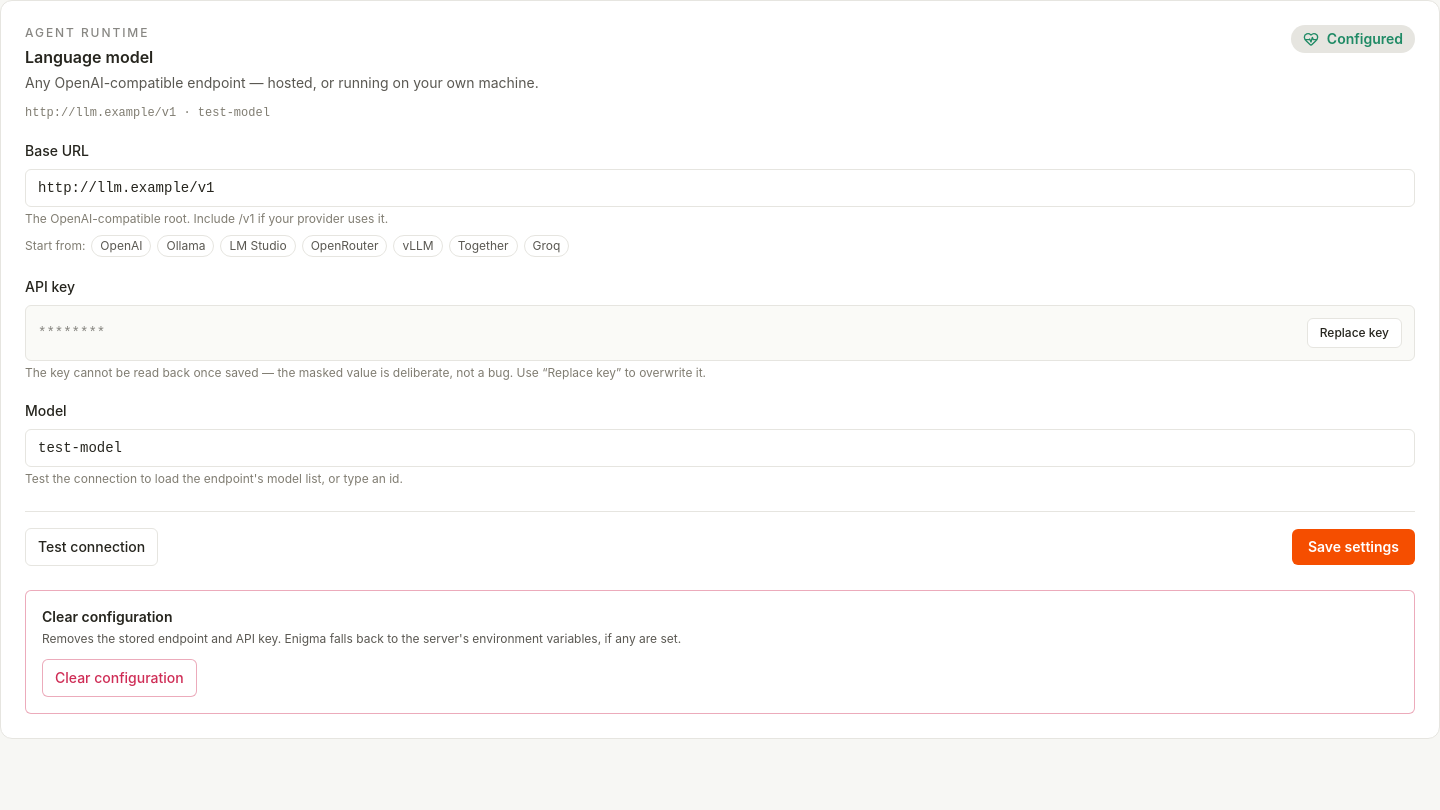
Test: LlmSettingsPanel › surfaces the backend detail when saving fails
The width and height of the screenshot is (1440, 810).
What coordinates should you click on to do the following:
click the button "Save settings"
I would click on:
 (1353, 547)
Its box is [1292,529,1415,565].
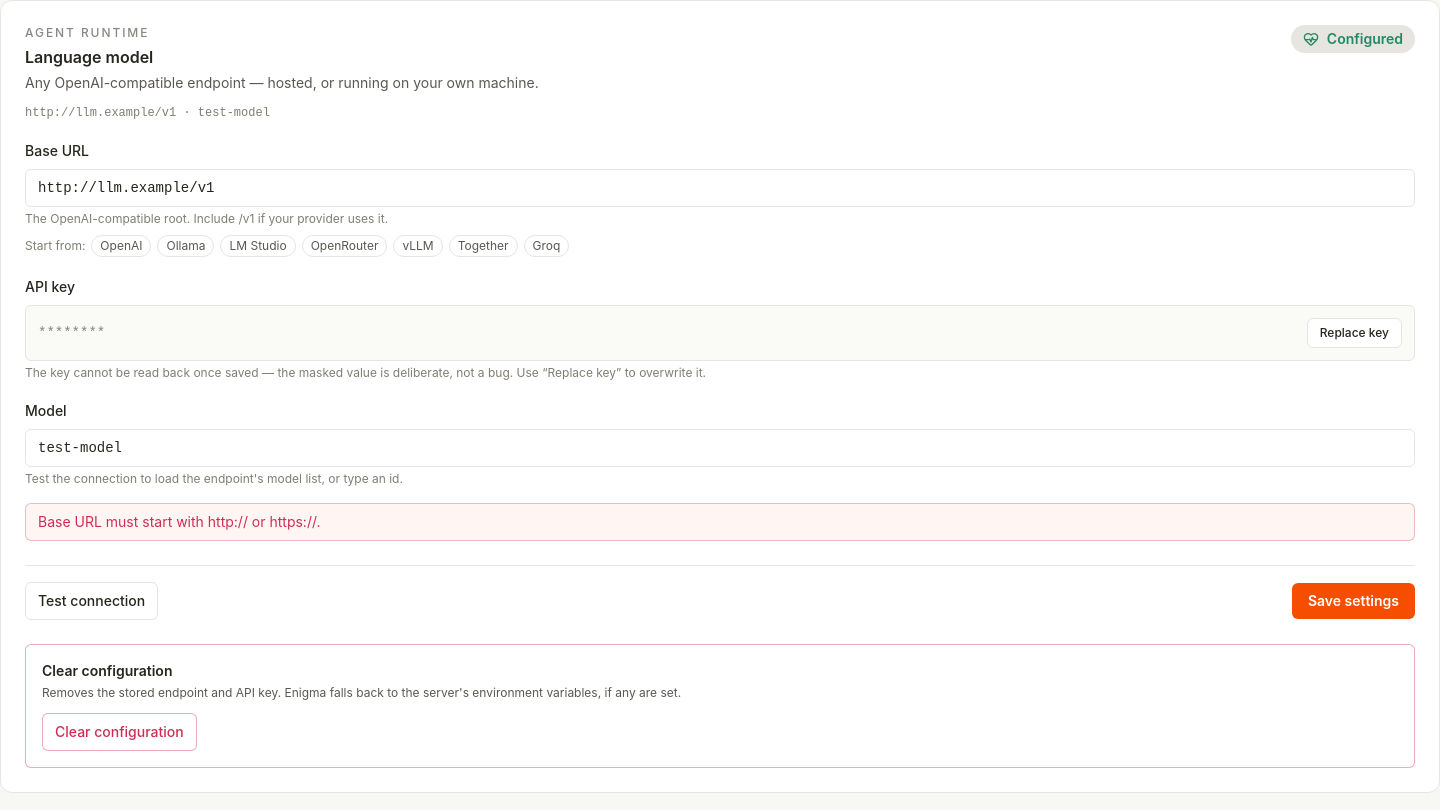
Expected: the text "Base URL must start with http:// or https://." is shown, [25,503,1415,541]
